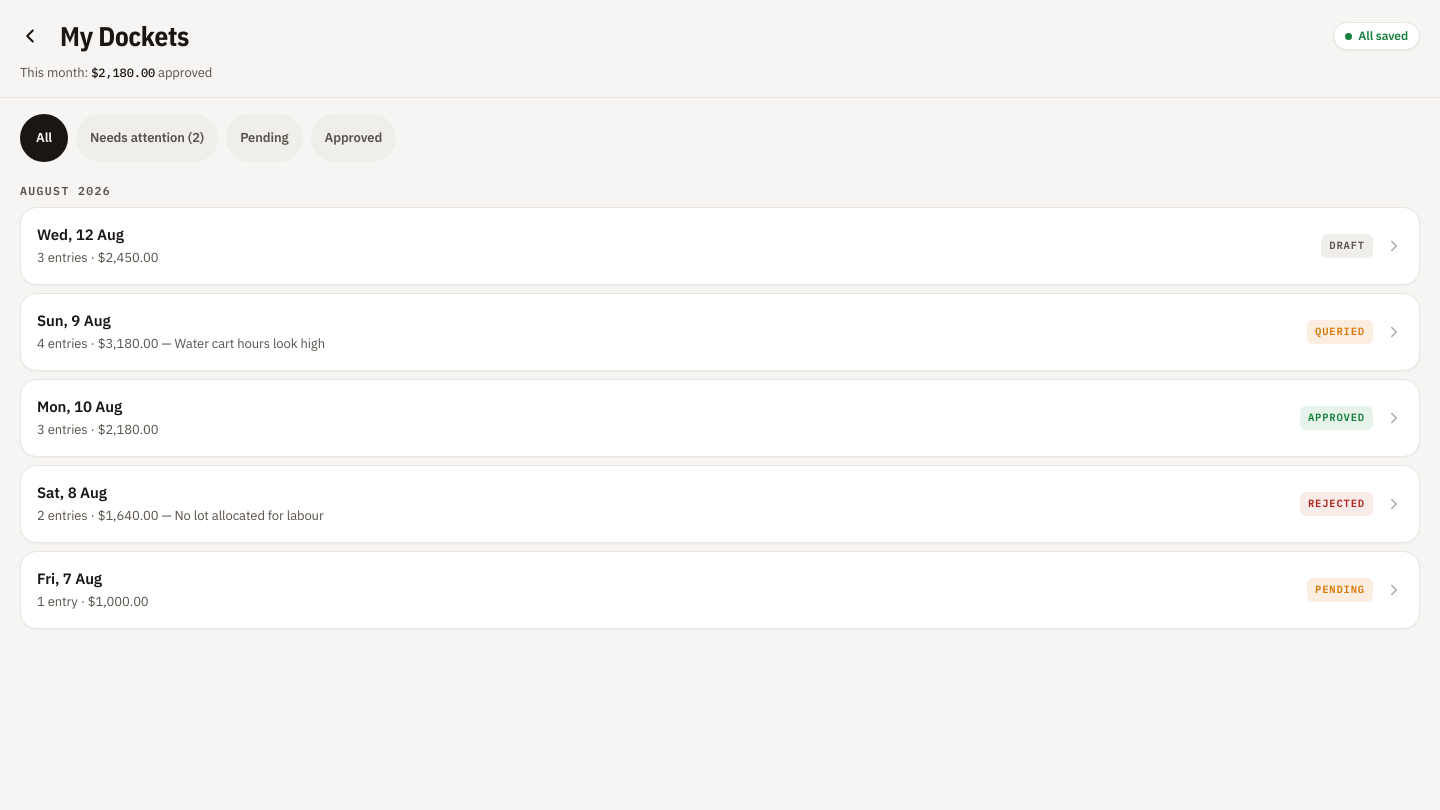
Test: subbie shell DocketsListScreen › Pending filter shows only pending_approval dockets
This screenshot has width=1440, height=810.
Expected: the button "Wed, 12 Aug 3 entries · $2,450.00 DRAFT" is shown, [20, 207, 1420, 285]
Click the button "Pending" at (264, 138), box [226, 114, 302, 162]
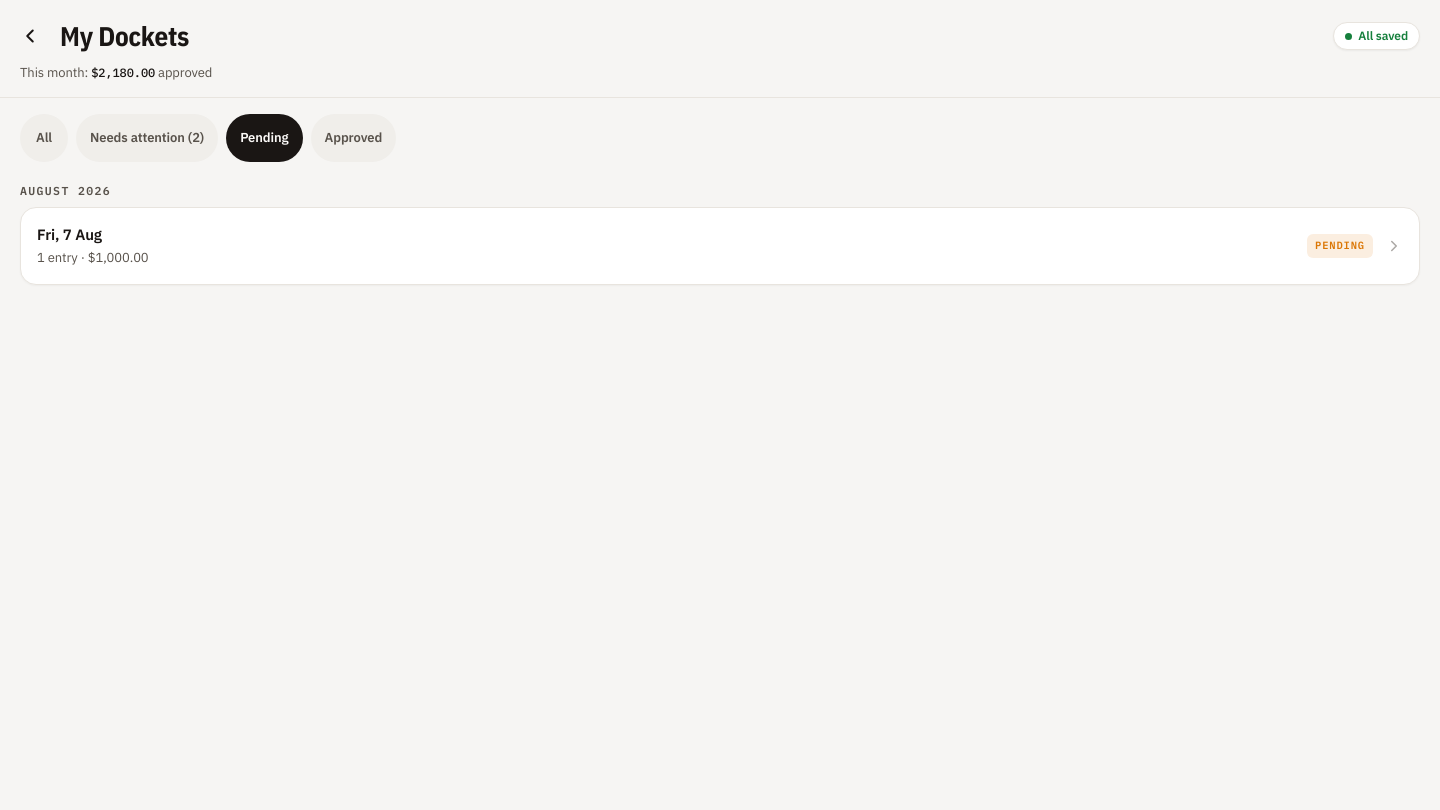
Expected: the text "PENDING" is shown, [1307, 234, 1373, 258]
Now the button "QUERIED" is gone
